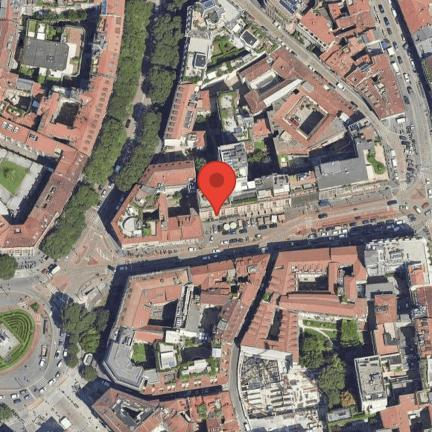area_open: (209, 110, 425, 254), (3, 263, 98, 430), (58, 224, 125, 304)
built: (241, 244, 431, 432), (0, 0, 126, 259), (100, 255, 271, 397), (251, 6, 411, 122), (240, 48, 355, 150), (219, 147, 371, 220), (114, 163, 201, 246), (186, 3, 277, 82), (92, 390, 241, 432), (244, 359, 320, 420), (160, 87, 208, 152), (397, 4, 430, 98)
vegetation_high: (44, 7, 183, 270), (299, 324, 364, 412), (62, 307, 109, 384)
